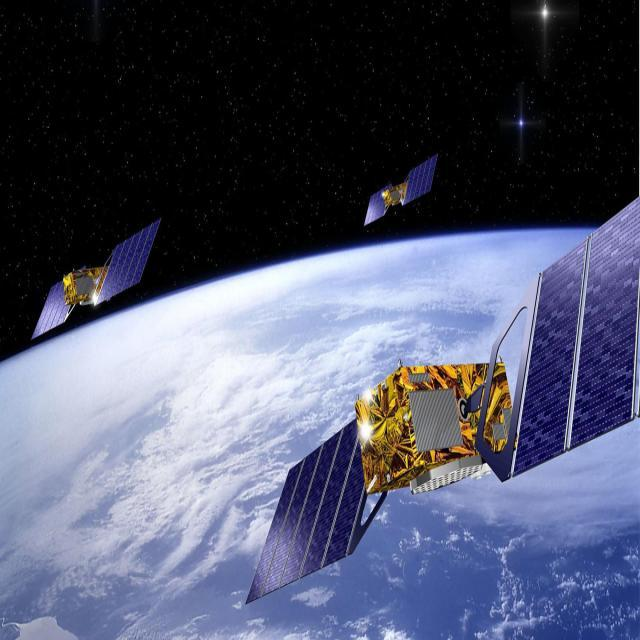sat: (240, 206, 640, 614), (27, 208, 175, 349), (364, 168, 444, 222)
